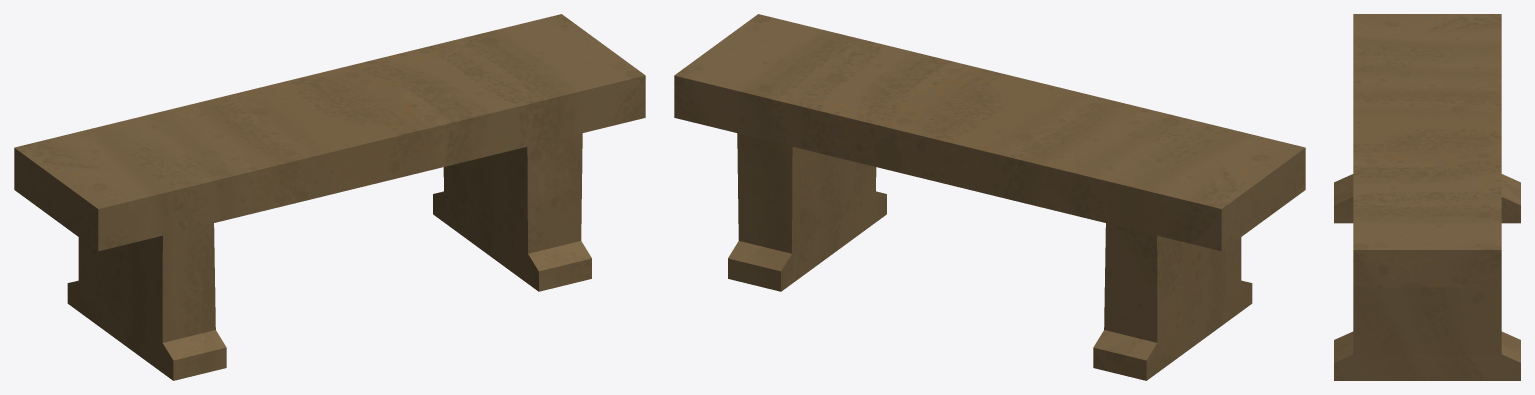
The model's file is SM_museumBench.fbx.
3 renders of one model, left to right at view 1: azimuth 30°, elevation 25°; view 2: azimuth 150°, elevation 25°; view 3: azimuth 270°, elevation 25°, orthographic. The views are drawn at different scales.
Visible parts, largest first — view 1: bench; view 2: bench; view 3: bench.
Part boxes in pixels (x1=…): bench: x1=14, y1=14, x2=645, y2=380; bench: x1=674, y1=14, x2=1305, y2=380; bench: x1=1334, y1=14, x2=1520, y2=380.
Size of the model in its own units: 20.3 by 6.36 by 6.79.
1 material, 1 textured.
